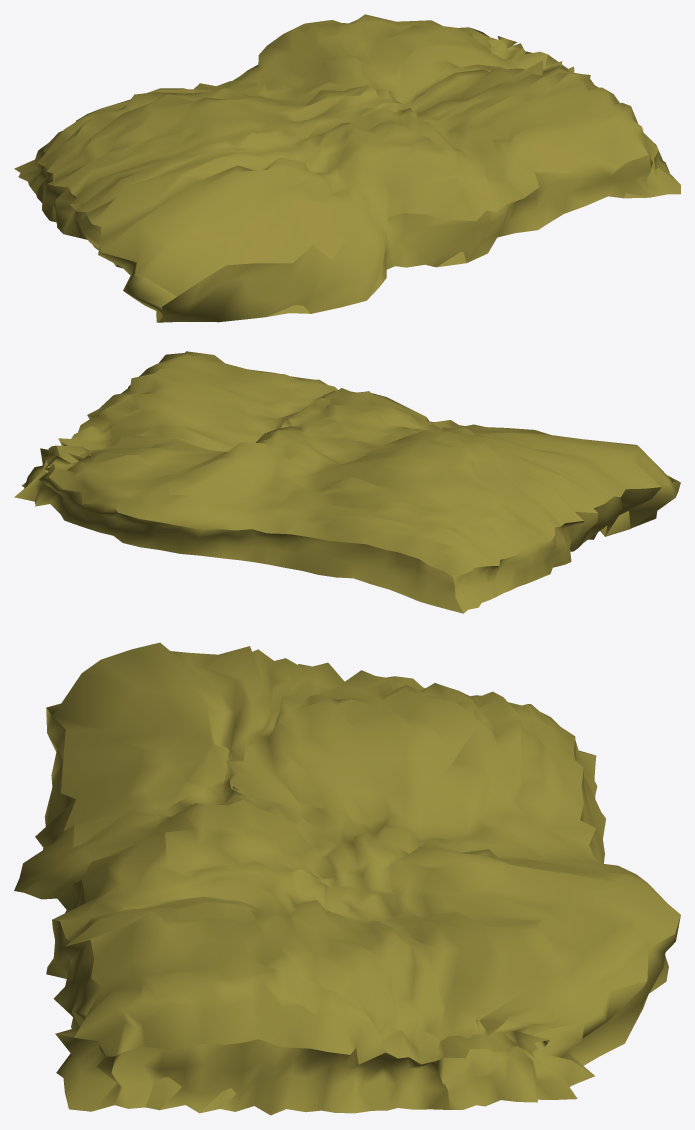
Rendered from fol_rock_03.fbx.
3 views of the same model, one above another, from view 1: azimuth 30°, elevation 25°; view 2: azimuth 150°, elevation 25°; view 3: azimuth 270°, elevation 25° (orthographic). The views are drawn at different scales.
Parts seen in each view (by area): view 1: rock_03; view 2: rock_03; view 3: rock_03.
Part boxes in pixels (x1,y1,x2,y2): rock_03: [14, 14, 680, 322]; rock_03: [14, 351, 680, 613]; rock_03: [14, 642, 680, 1115].
Size of the model in its own units: 17.43 by 3.44 by 12.23.
